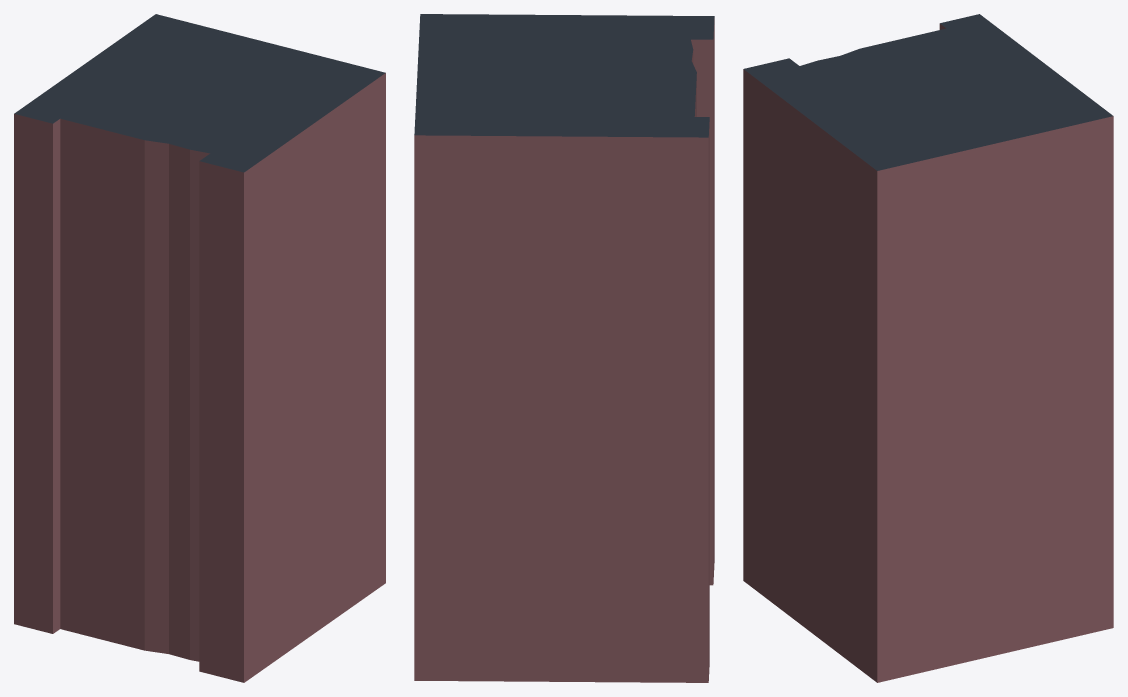
Rendered from nyc-1024706-0.glb.
3 views of the same model, side by side, from view 1: azimuth 30°, elevation 25°; view 2: azimuth 150°, elevation 25°; view 3: azimuth 270°, elevation 25° (orthographic). The views are drawn at different scales.
Parts seen in each view (by area): view 1: nyc-1024706-0; view 2: nyc-1024706-0; view 3: nyc-1024706-0.
Part boxes in pixels (box(x1,y1,x2,y2)): nyc-1024706-0: box(14, 14, 385, 682); nyc-1024706-0: box(414, 14, 714, 682); nyc-1024706-0: box(743, 14, 1113, 682).
Bounding box in the file's own units: 84.4 × 128 × 84.08.
